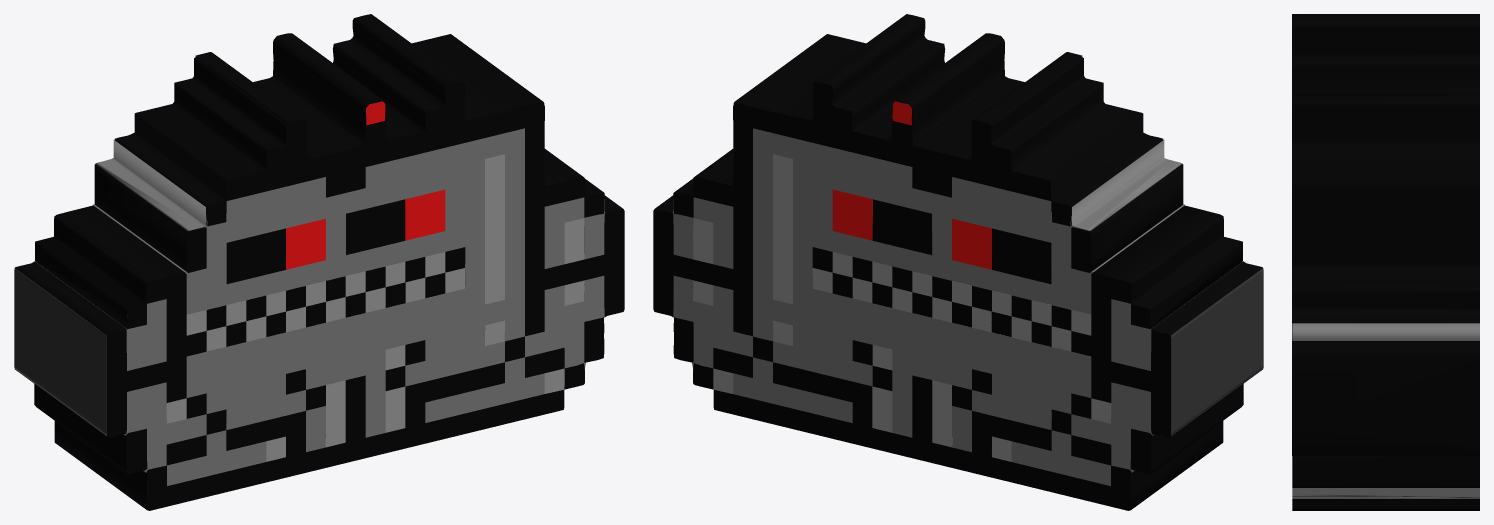
File: Toadz_4055.glb
3 renders of one model, left to right at view 1: azimuth 30°, elevation 25°; view 2: azimuth 150°, elevation 25°; view 3: azimuth 270°, elevation 25°, orthographic.
Parts seen in each view (by area): view 1: Curve; view 2: Curve; view 3: Curve.
Part boxes in pixels (x1,y1,x2,y2): Curve: [14, 14, 624, 510]; Curve: [653, 14, 1263, 510]; Curve: [1292, 14, 1479, 510].
Size of the model in its own units: 3.24 by 2.12 by 1.
